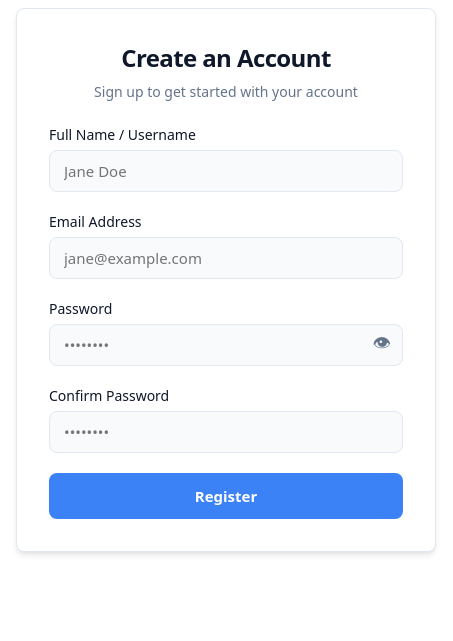
it: Register component › validates password mismatch before submitting
Type "Alice" into the field labelled "Full Name / Username" at (226, 171), box [49, 150, 403, 192]
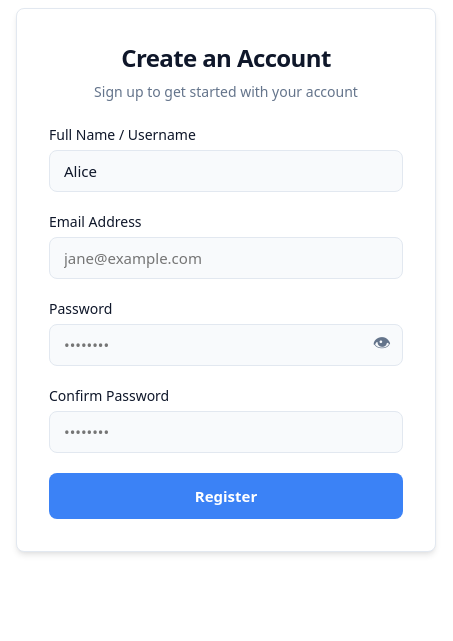
Type "alice@example.com" into the field labelled "Email Address" at (226, 258), box [49, 237, 403, 279]
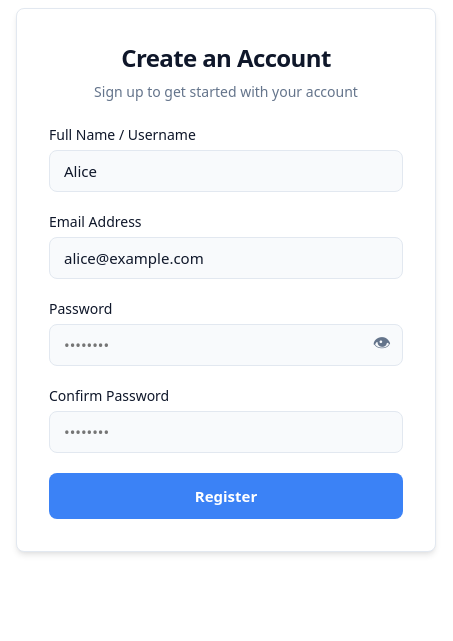
Type "password123" into the password field labelled "Password" at (226, 345), box [49, 324, 403, 366]
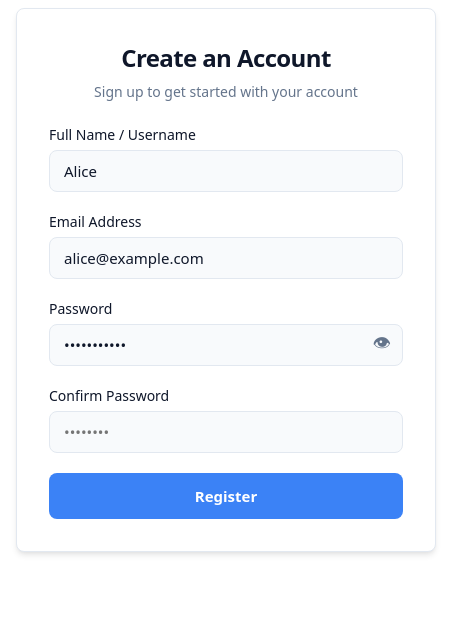
Type "differentPassword" into the password field labelled "Confirm Password" at (226, 432), box [49, 411, 403, 453]
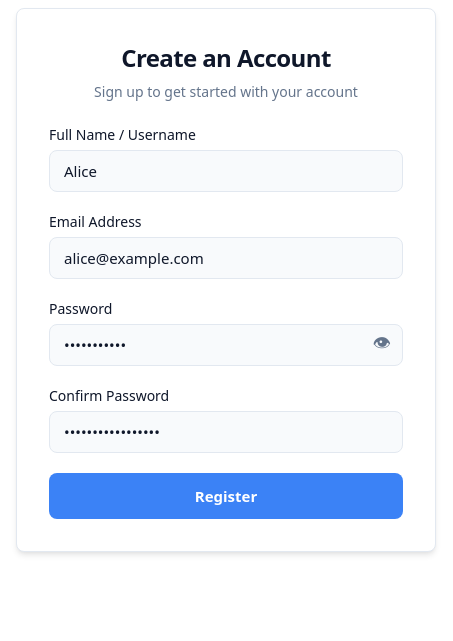
Click the button "Register" at (226, 496), box [49, 473, 403, 519]
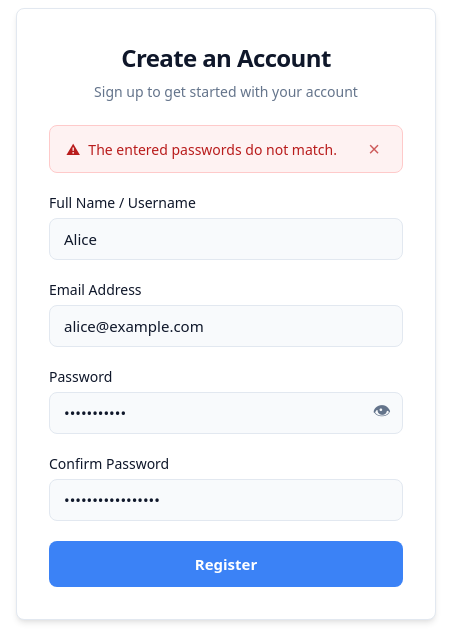
Expected: the text "The entered passwords do not match." is shown, [88, 140, 337, 158]
